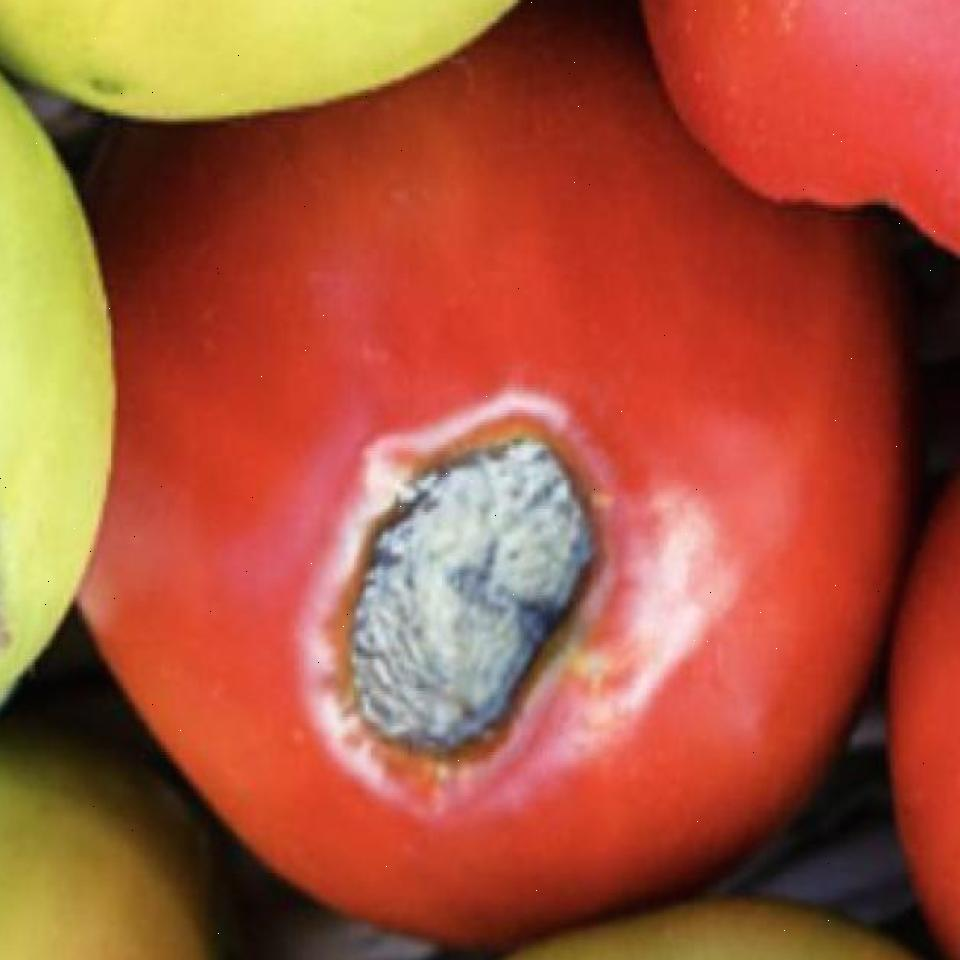Blossom_end_rot: (311, 397, 619, 811)
